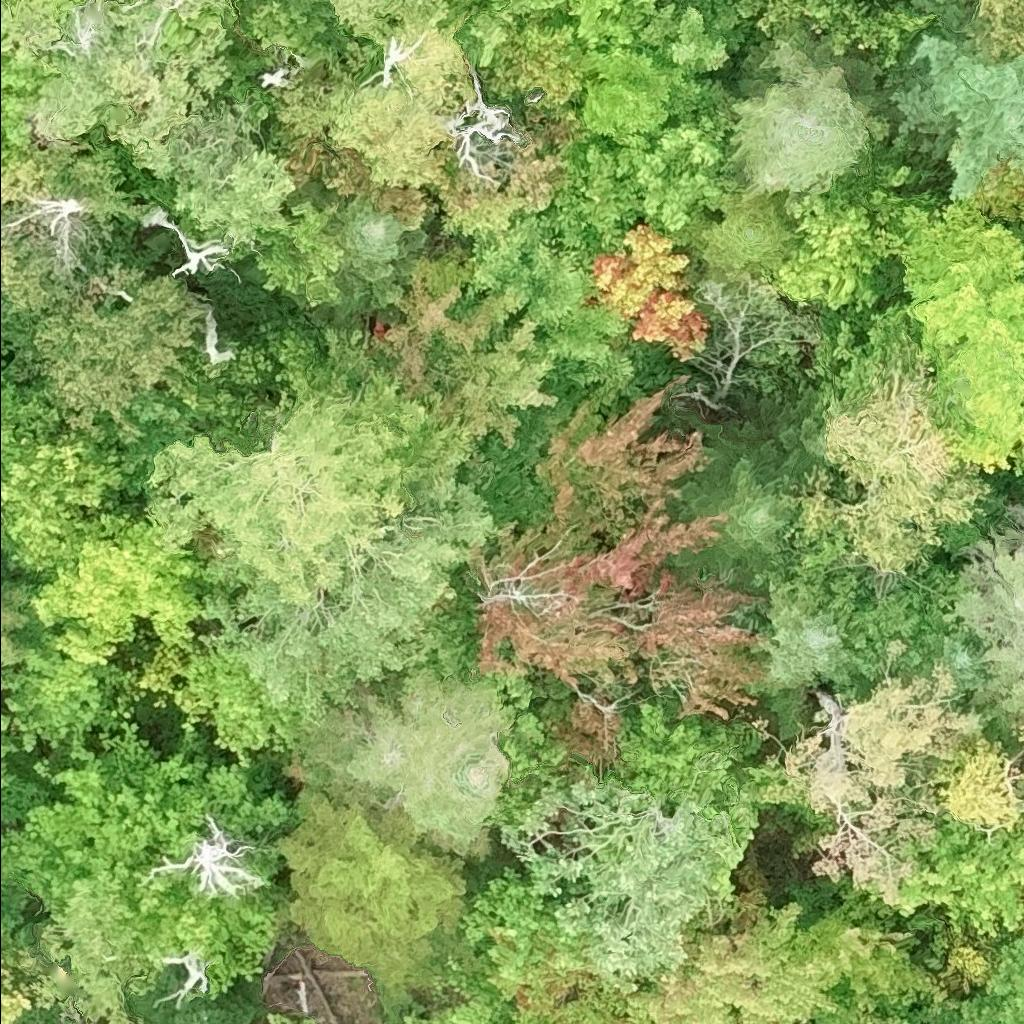crown: (143, 327, 502, 721), (548, 847, 957, 1023), (465, 494, 767, 720), (34, 0, 296, 244), (791, 293, 995, 573), (502, 767, 747, 992), (785, 636, 984, 906), (276, 789, 478, 1006), (21, 721, 301, 872), (884, 198, 1023, 479), (465, 209, 650, 412), (368, 254, 561, 448), (16, 272, 209, 447), (272, 23, 473, 191), (345, 667, 519, 860), (749, 530, 963, 669), (536, 372, 710, 537), (26, 508, 204, 667), (96, 854, 278, 1000), (724, 580, 876, 741), (668, 413, 813, 577), (888, 33, 1023, 204), (726, 35, 872, 193), (763, 164, 911, 314), (0, 430, 132, 575), (0, 614, 127, 753), (578, 43, 737, 153), (584, 221, 708, 361), (167, 632, 294, 765), (635, 101, 752, 245), (899, 811, 1023, 939), (427, 141, 562, 248), (458, 865, 583, 980), (945, 542, 1023, 725), (327, 192, 427, 329), (617, 701, 729, 818), (540, 133, 647, 252), (687, 175, 804, 280), (149, 812, 265, 898), (933, 735, 1021, 845), (255, 199, 344, 307), (0, 231, 73, 358), (129, 967, 262, 1023), (0, 361, 61, 477), (949, 932, 1023, 1023), (0, 48, 51, 171), (326, 0, 457, 45), (562, 0, 678, 50), (656, 3, 732, 73), (918, 621, 989, 693), (400, 996, 560, 1023), (0, 158, 53, 221), (972, 166, 1023, 230), (0, 583, 31, 666), (0, 710, 23, 793), (1012, 721, 1023, 747)
